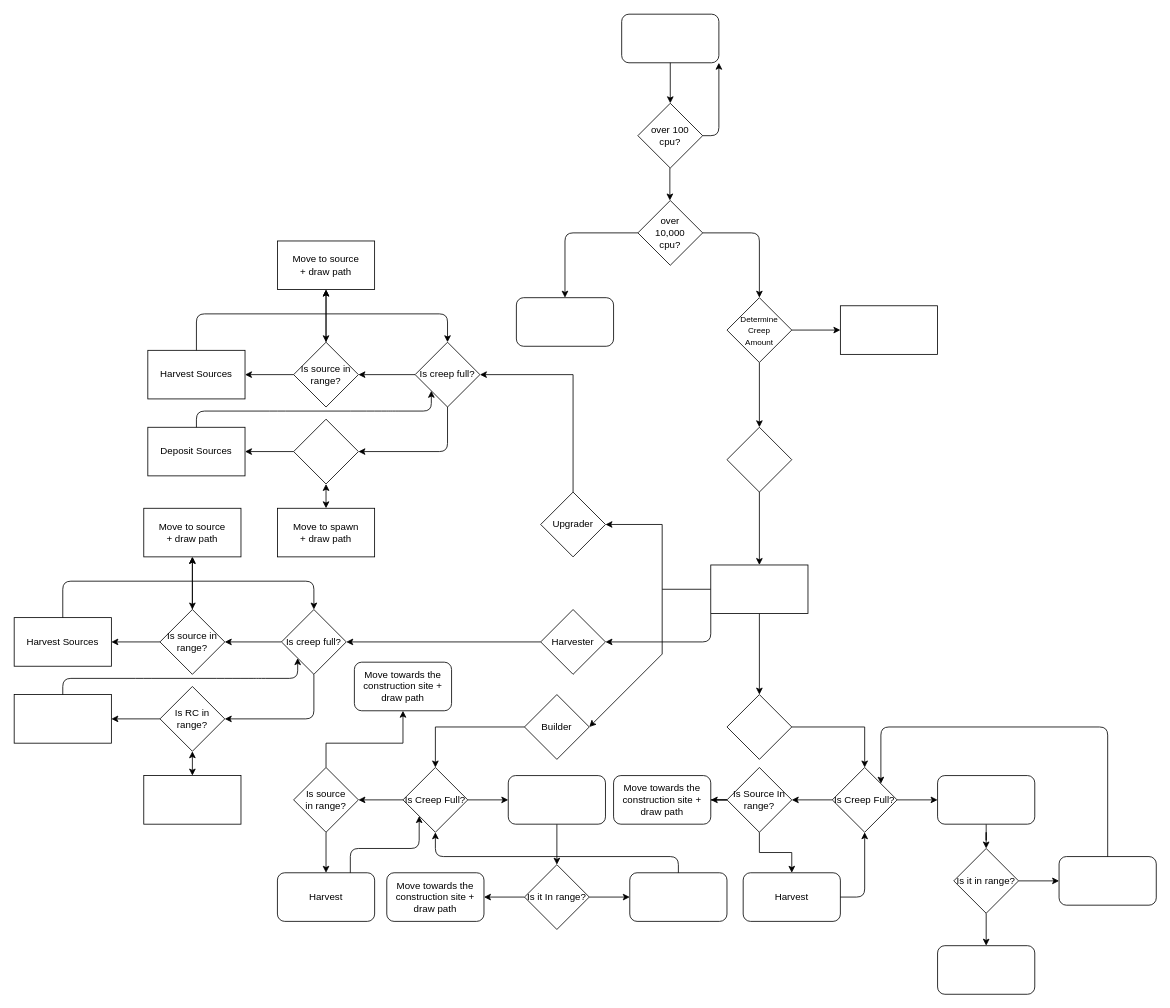
Image size: 1170x1008. Some labels were removed from this diagram. Here are the shapes that lost their labels. From the top down, the centre of each, then its label:
At pixel 670 38: "BEGIN".
At pixel 565 321: "Generate 1x Pixel".
At pixel 889 329: "Spawn Creep".
At pixel 325 451: "Is spawn in range?".
At pixel 759 459: "Determine Creep".
At pixel 759 589: "Assign Role".
At pixel 62 718: "Deposit RC".
At pixel 759 726: "Repairer".
At pixel 192 799: "Move to RC + draw path".
At pixel 556 799: "Find Construction Site".
At pixel 986 799: "Find a building with least amount of hits left".
At pixel 678 896: "Build".
At pixel 1107 880: "Repair".
At pixel 986 969: "Move towards building + draw path".
